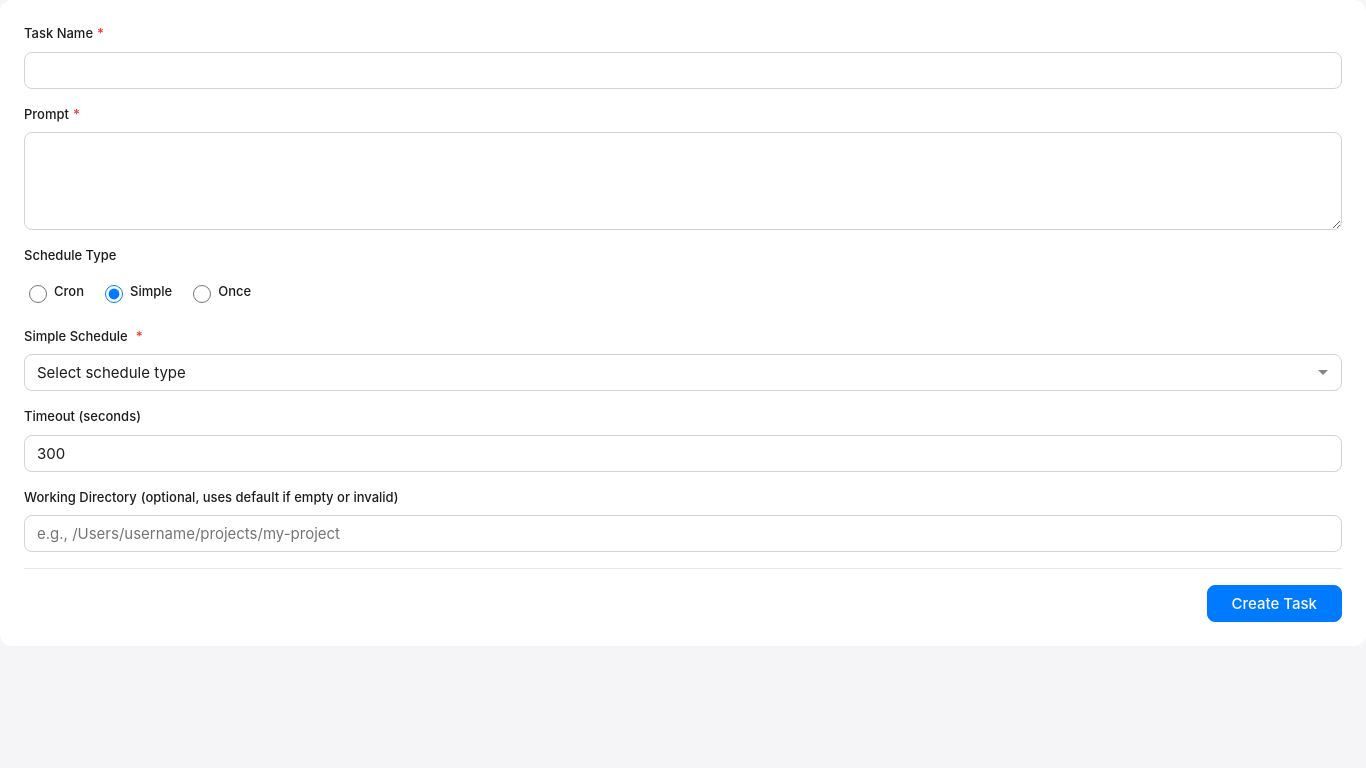
TaskForm › Validation › requires name field
Click the button "Create Task" at (1274, 604), box [1207,585,1342,622]
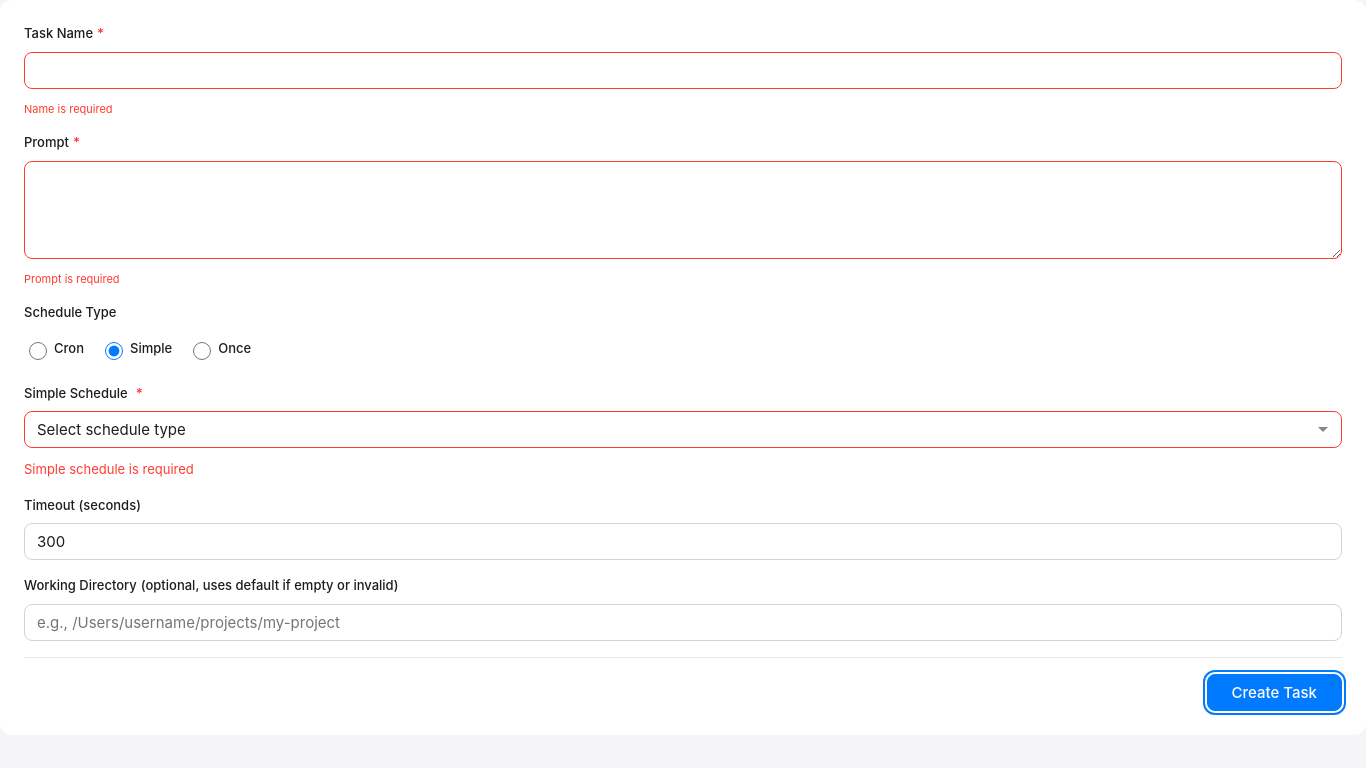
expect the text "Name is required" is shown: met, box [24,102,113,116]
